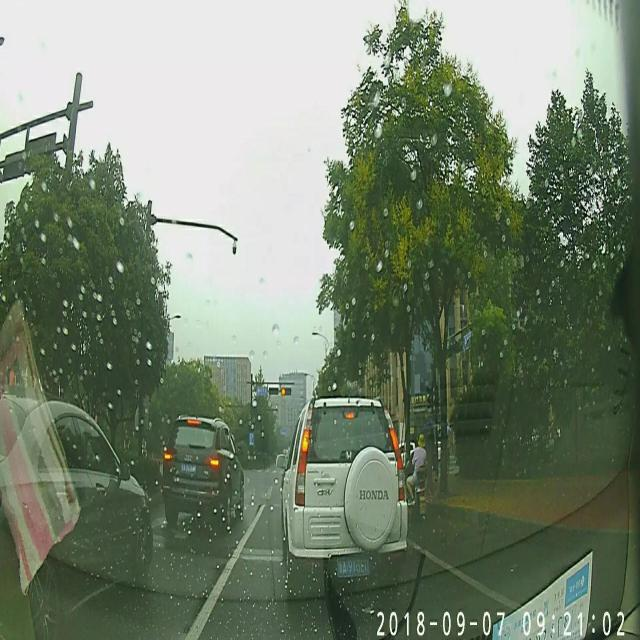car: (0, 392, 152, 640), (276, 396, 408, 576), (162, 412, 245, 525), (397, 442, 415, 466)
